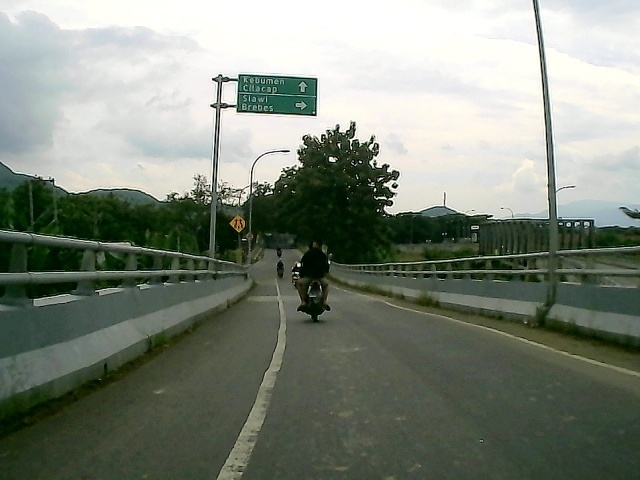Akhir bangunan pemisah satu arah: (226, 213, 248, 234)
